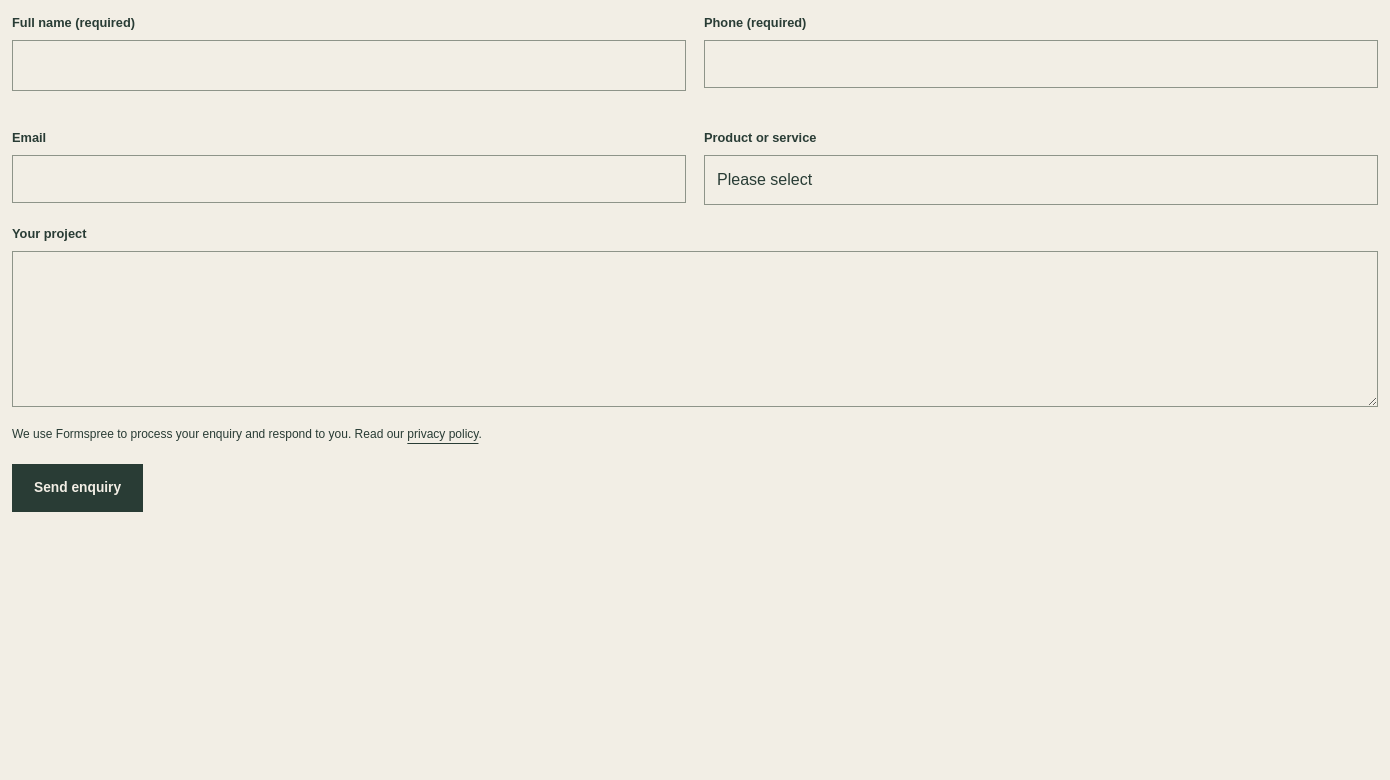
Test case: network failure gives an actionable error
Step 1. Type "Test Person" into the field labelled "Full name (required)" → point(349, 65), box [12,40,686,90]
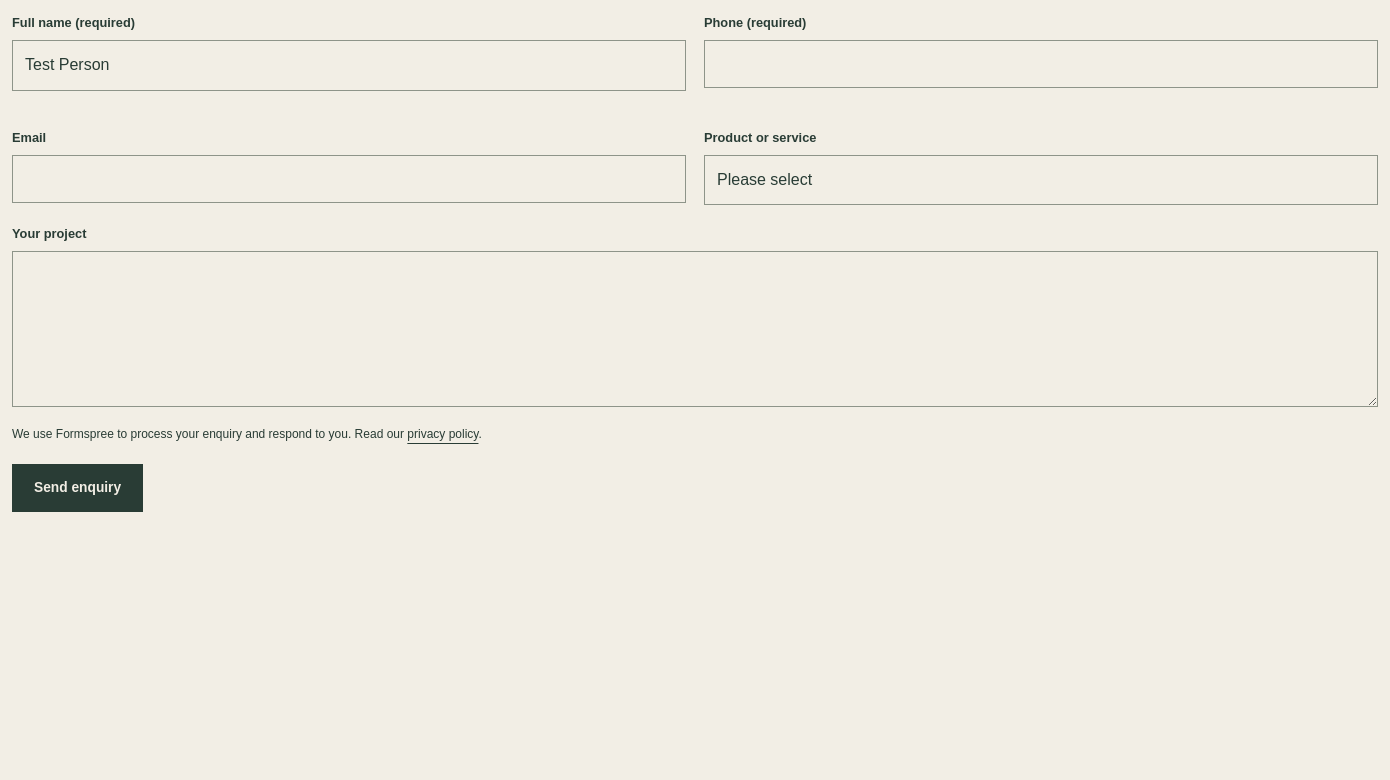
Step 2. Type "1234567890" into the field labelled "Phone (required)" → point(1041, 64), box [704,40,1378,88]
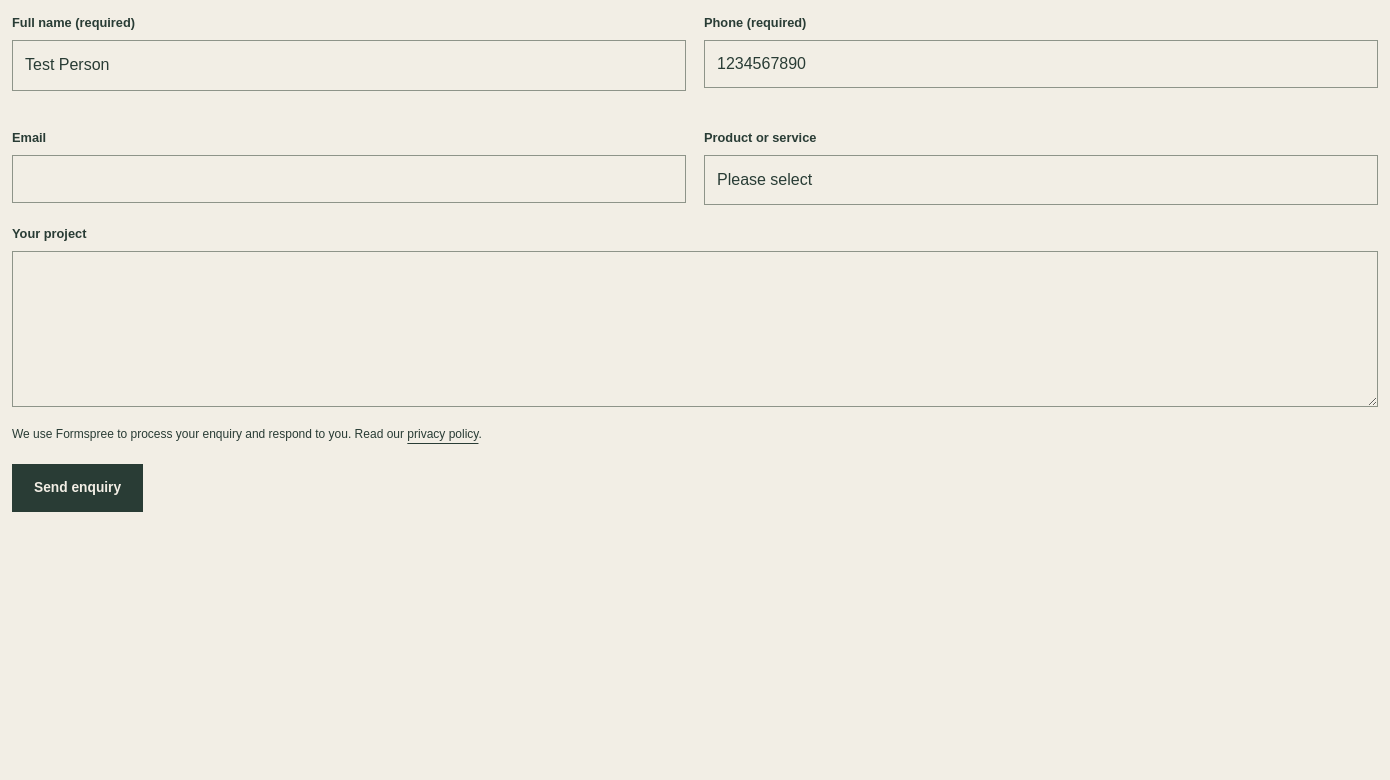
Step 3. Click the button "Send enquiry" → point(78, 488), box [12,464,143,512]
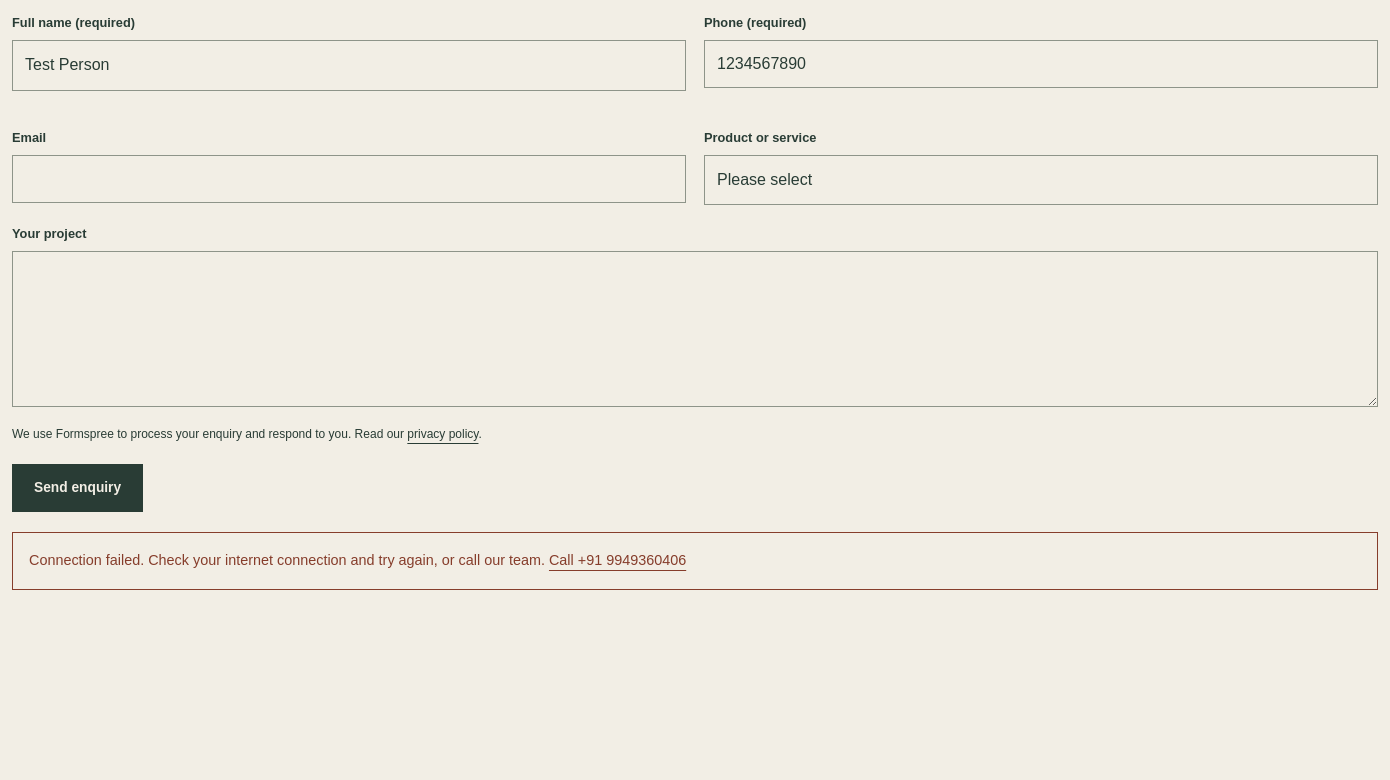
Now the message shows "Check your internet connection", box [29,552,545,568]
